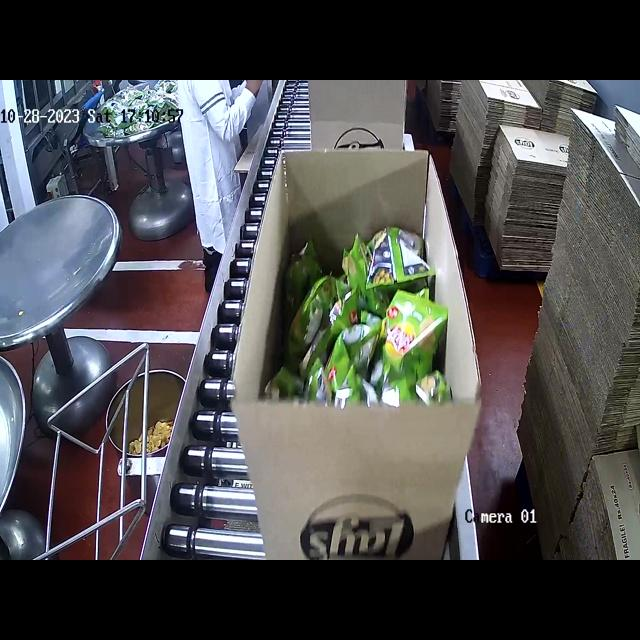yogurt: (289, 219, 440, 400)
